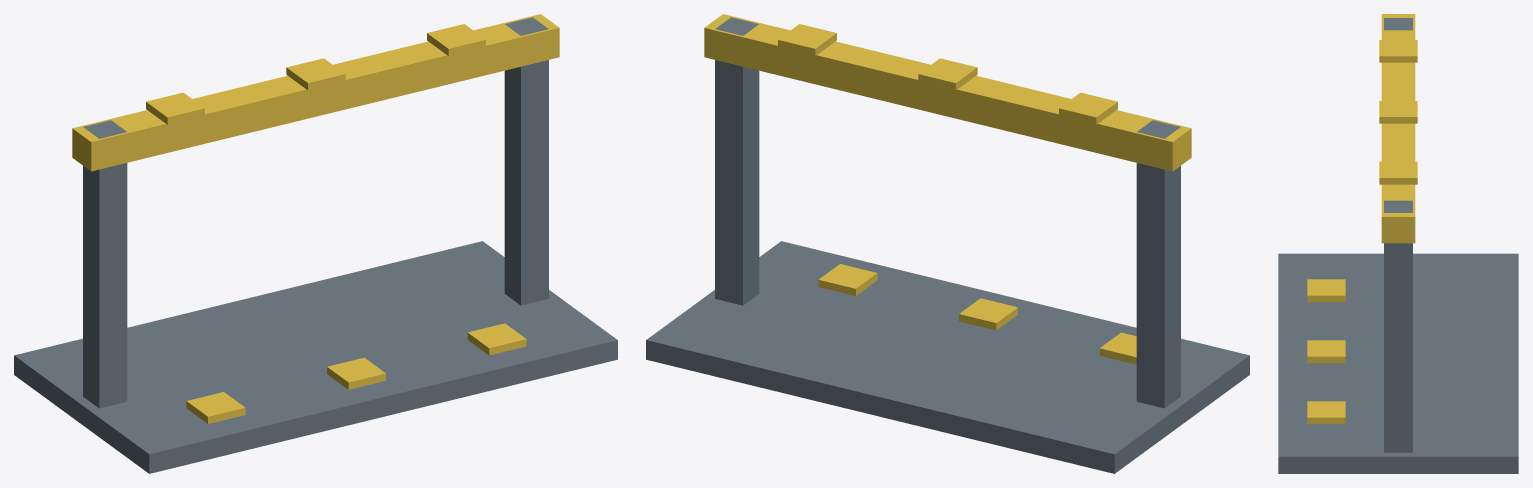
File: Prop_Brk_RepairStand_LOD1.glb
3 views of the same model, side by side, from view 1: azimuth 30°, elevation 25°; view 2: azimuth 150°, elevation 25°; view 3: azimuth 270°, elevation 25° (orthographic). The views are drawn at different scales.
Visible parts, largest first — view 1: Prop_Brk_RepairStand; view 2: Prop_Brk_RepairStand; view 3: Prop_Brk_RepairStand.
Boxes of the visible parts, x1,y1,x2,y2 form: Prop_Brk_RepairStand: [14, 14, 617, 473]; Prop_Brk_RepairStand: [646, 14, 1249, 473]; Prop_Brk_RepairStand: [1278, 14, 1518, 473].
Size of the model in its own units: 2 by 1.21 by 1.
